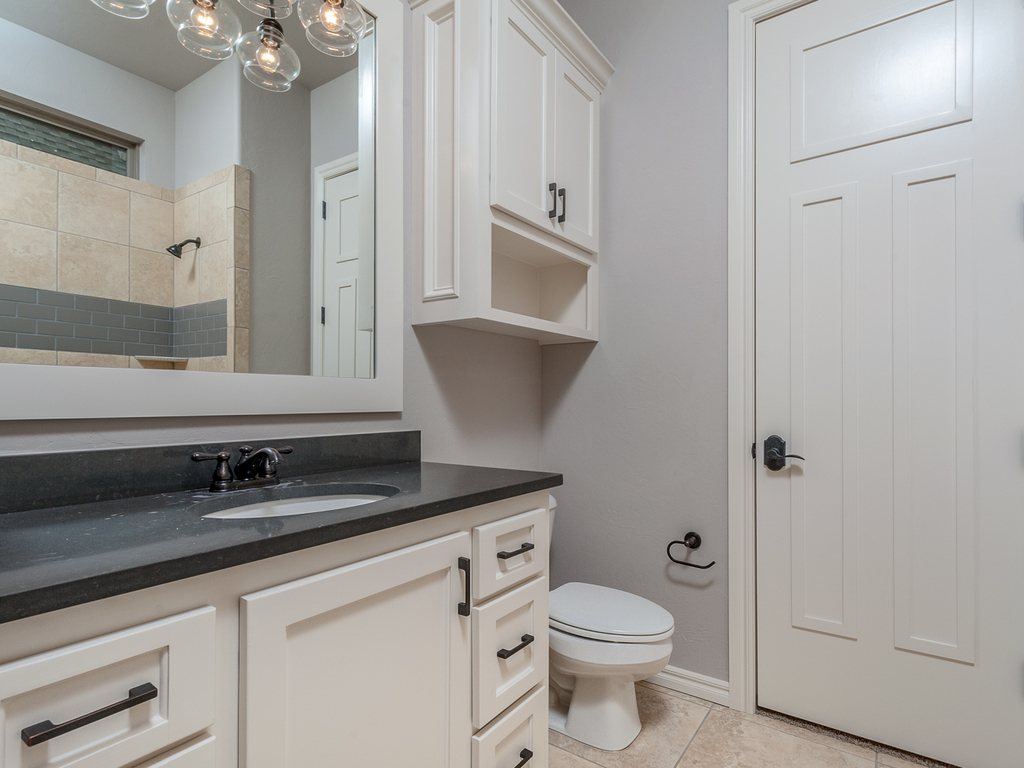tap: (125, 432, 317, 532)
